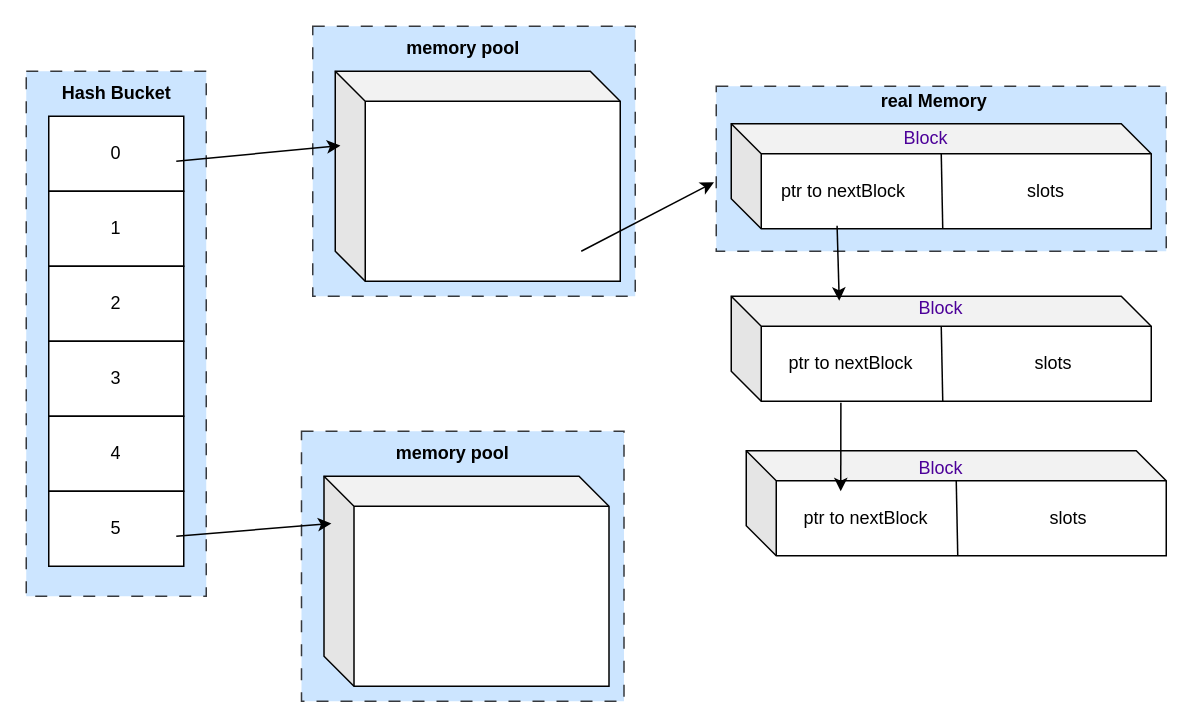
This 1193x728 diagram has some shape labels left out. Here are the shapes that lost their labels. From the top down, the centre of each, then its label:
(x=477, y=175): slot size:8B blocksize:4096B ptr to freeSlot ptr to c urSlot ptr to firstBlock
(x=465, y=580): slot size:48B blocksize:4096B ptr to freeSlot ptr to c urSlot ptr to firstBlock
